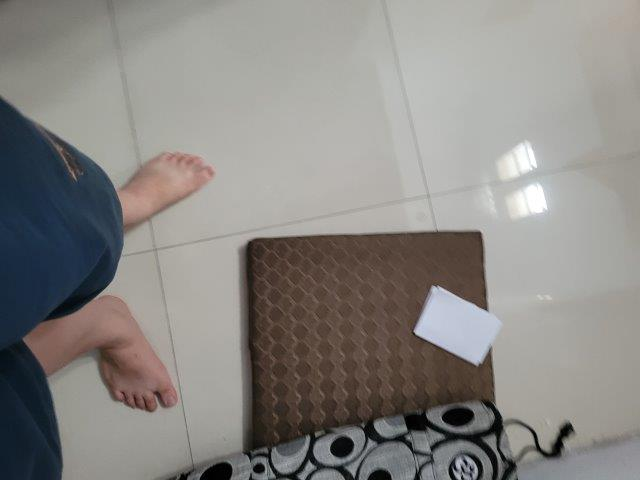kertas: (411, 286, 501, 368)
